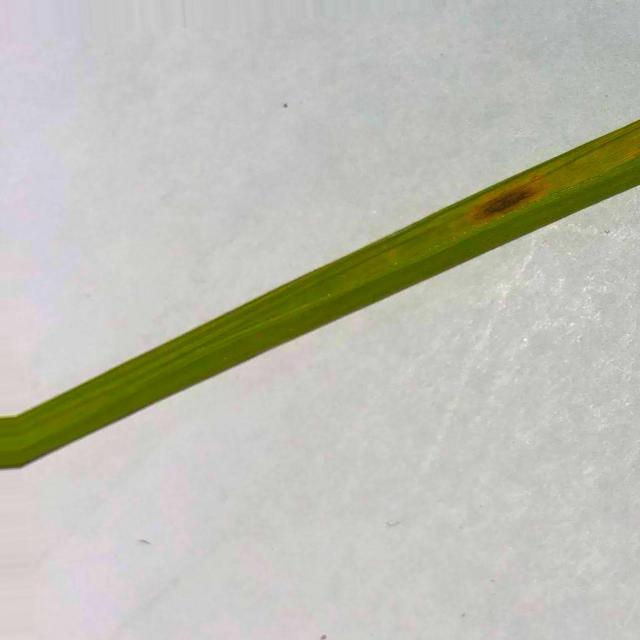Brown_Spot: (470, 180, 534, 218)
